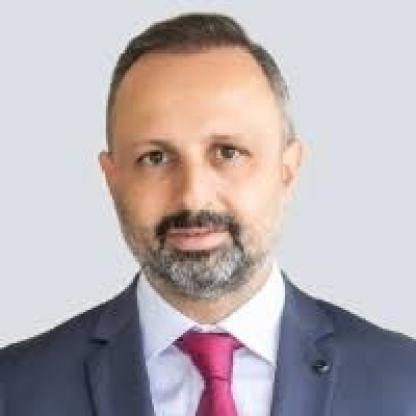person: (95, 12, 300, 298)
